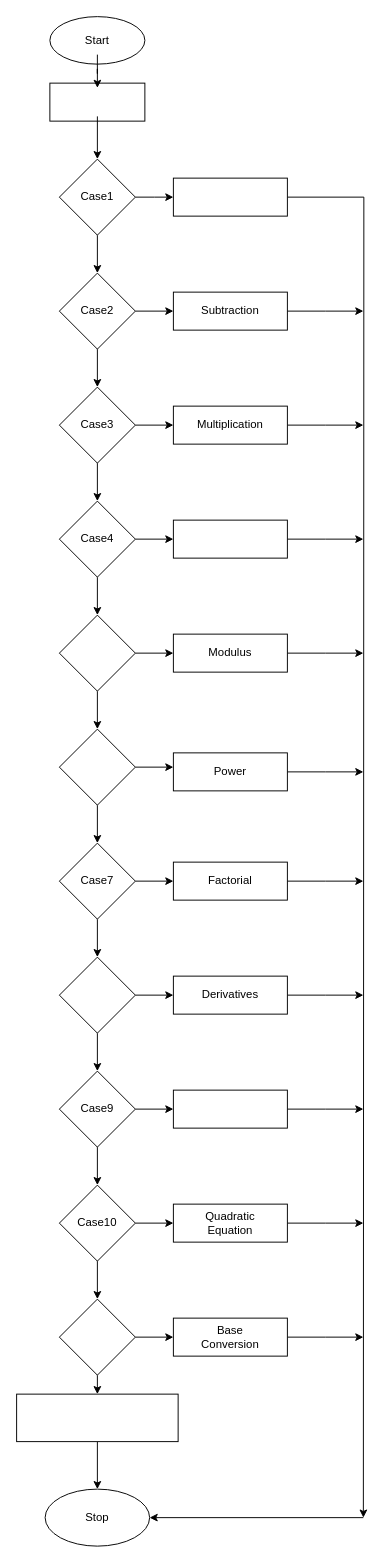
Image size: 389x1563. Some labels were removed from this diagram. Here are the shapes that lost their labels. From the top down, the centre of each, then its label:
At (97,101): "Read Choice".
At (229,196): "Addition".
At (229,538): "Division".
At (96,652): "Case5".
At (96,766): "Case6".
At (96,994): "Case8".
At (229,1108): "Integration".
At (96,1336): "Case11".
At (97,1417): "write:Invalid Operator".
